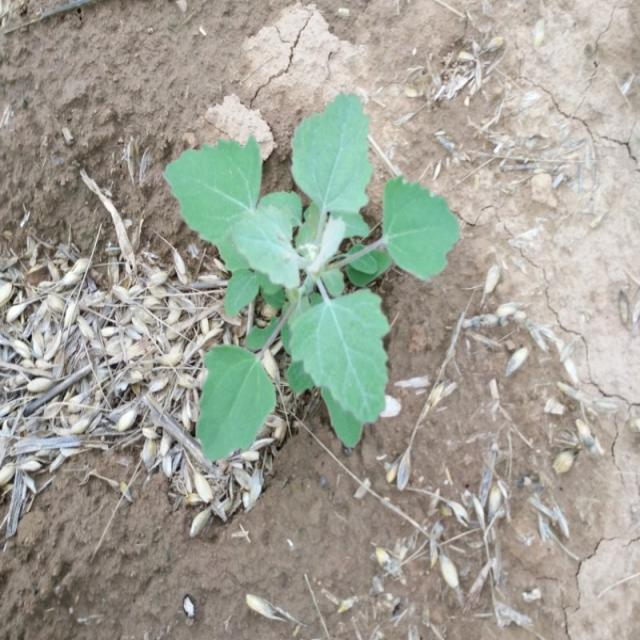goosefoots: (162, 87, 454, 476)
